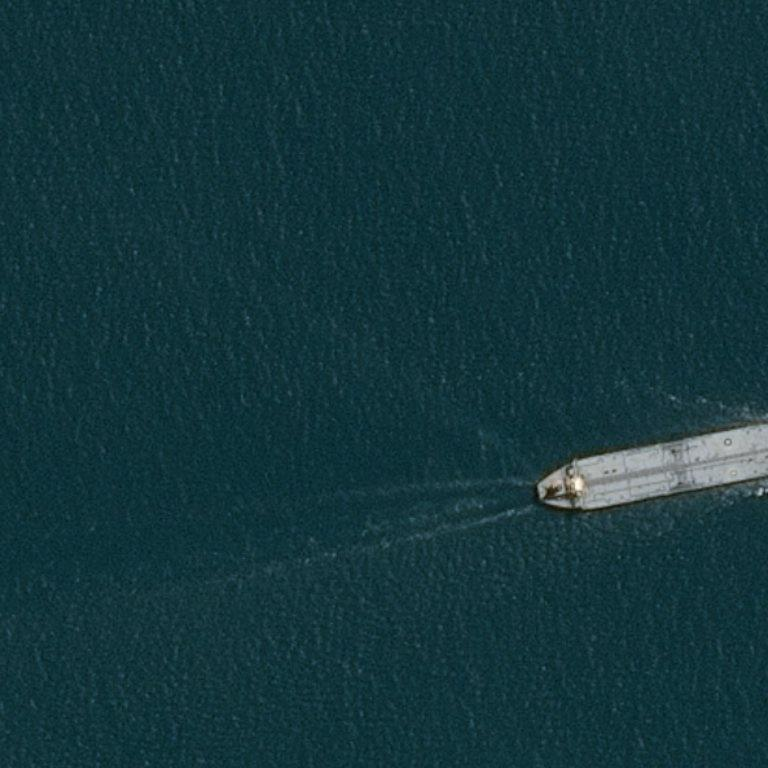ship: (532, 423, 768, 521)
